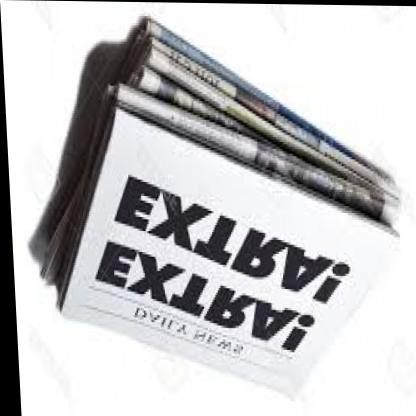Paper: (10, 3, 416, 382)
